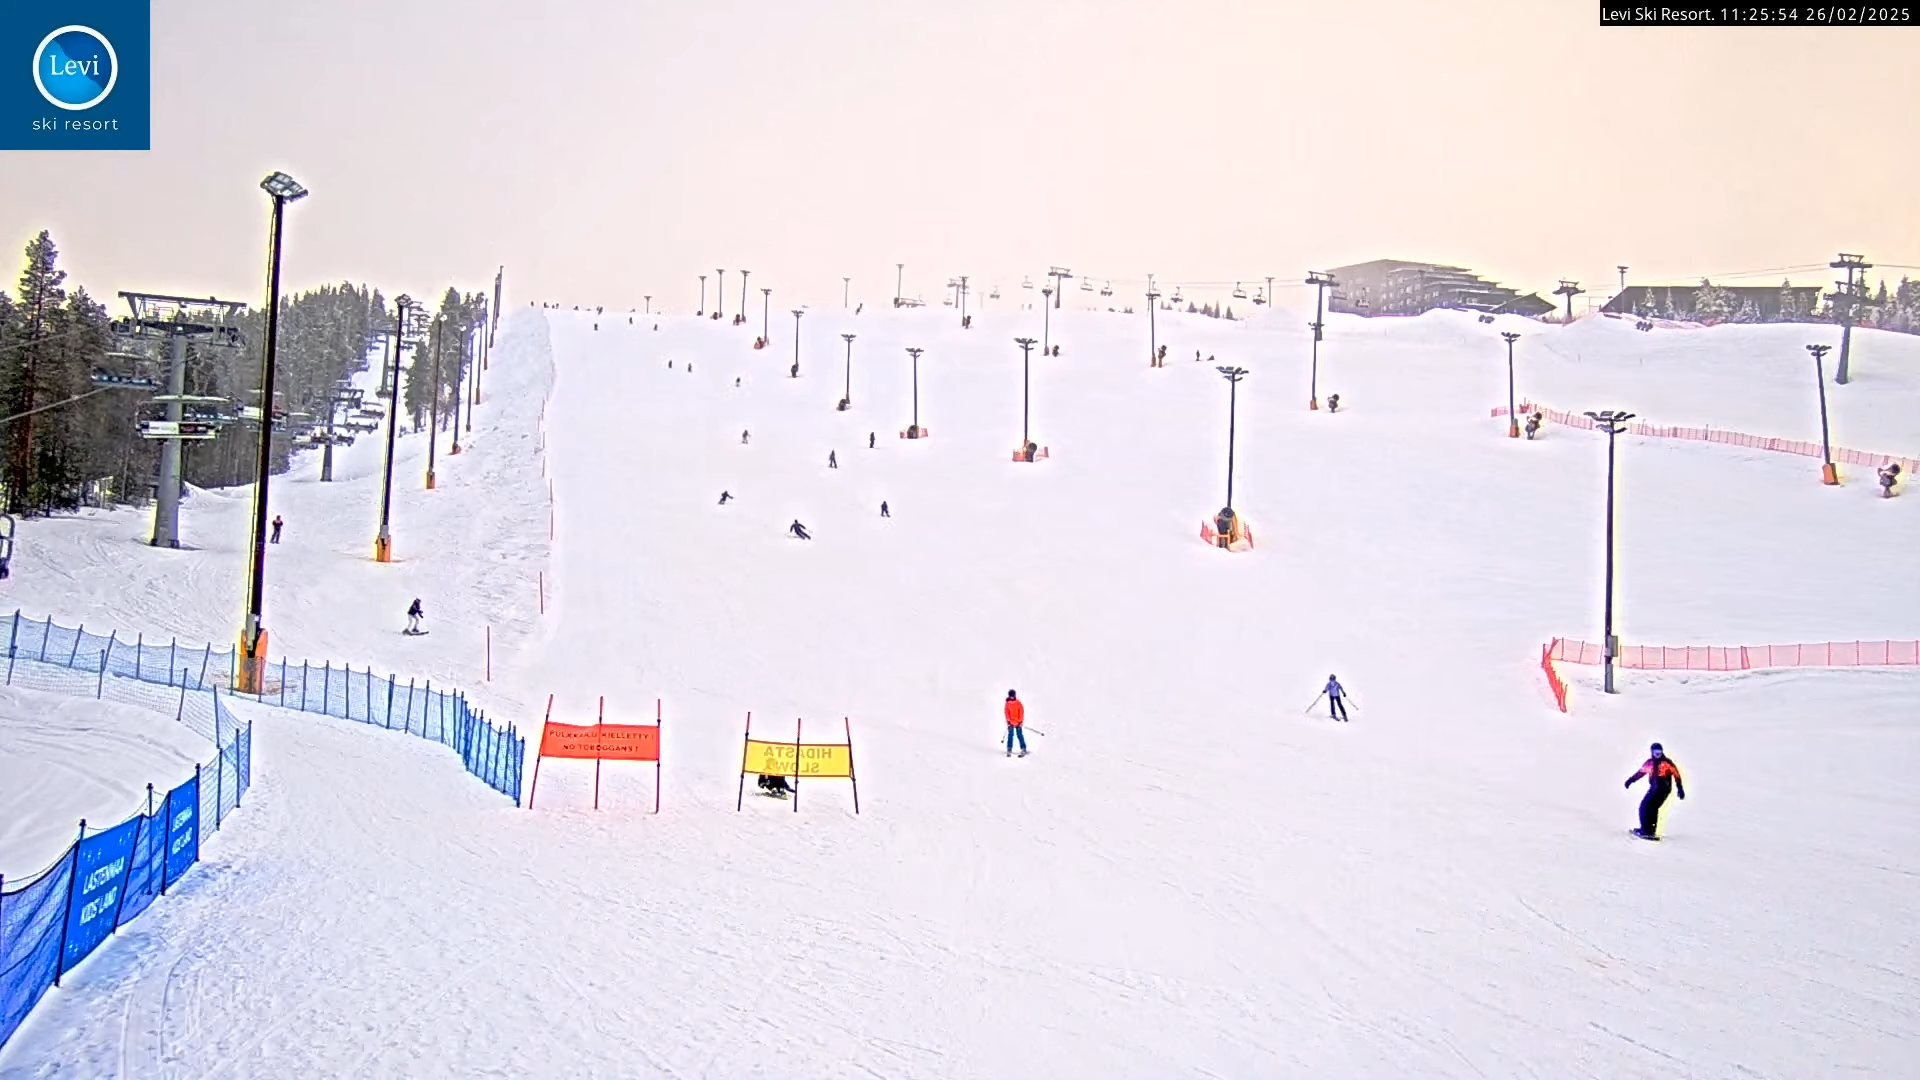skier: (1000, 687, 1042, 760), (1308, 671, 1358, 723)
snowboarder: (1625, 740, 1685, 841)
